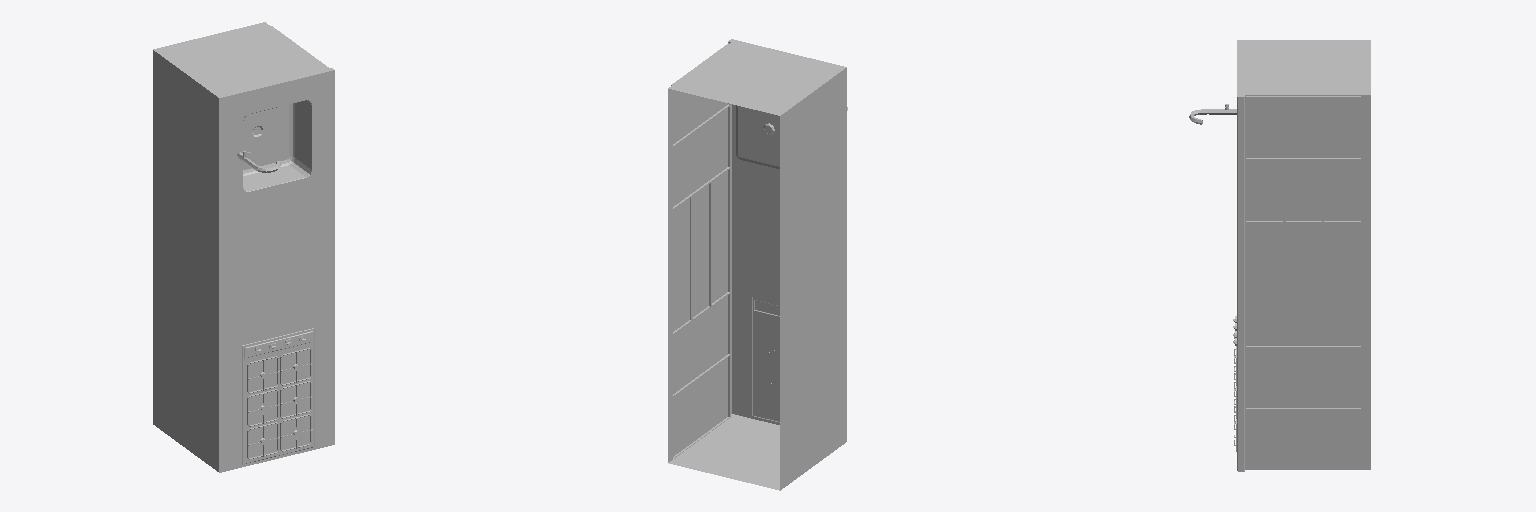
The model's file is Counter.obj.
The picture shows the model from 3 angles: view 1: azimuth 30°, elevation 25°; view 2: azimuth 150°, elevation 25°; view 3: azimuth 270°, elevation 25°; orthographic projection.
Visible parts, largest first — view 1: Counter_CUBezierCurve.001; view 2: Counter_CUBezierCurve.001; view 3: Counter_CUBezierCurve.001.
Part boxes in pixels (left/top/right/bottom): Counter_CUBezierCurve.001: left=153, top=22, right=334, bottom=472; Counter_CUBezierCurve.001: left=668, top=39, right=847, bottom=490; Counter_CUBezierCurve.001: left=1189, top=40, right=1370, bottom=471.
Bounding box in the file's own units: 0.7398 × 2.29 × 1.01.